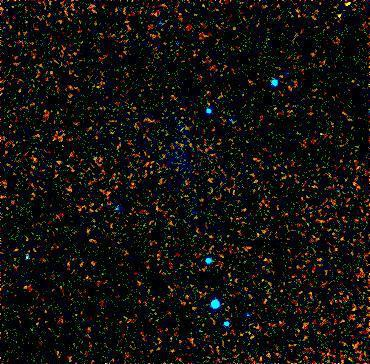star: (325, 0, 355, 29)
